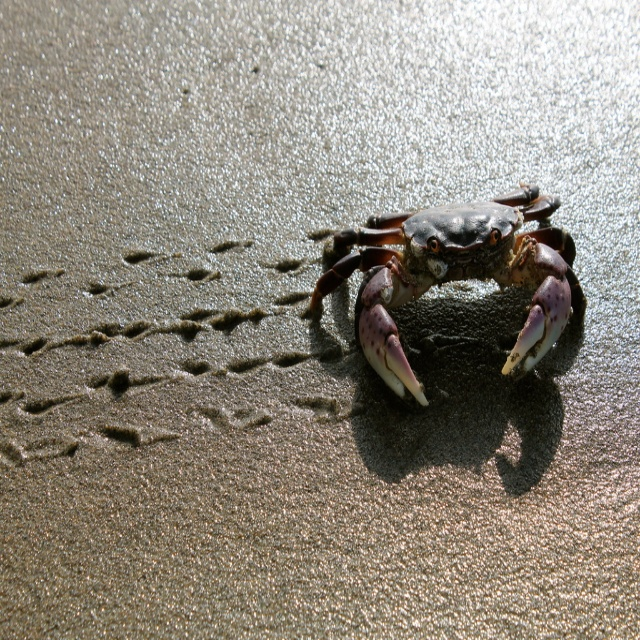Crab: (306, 177, 586, 405)
